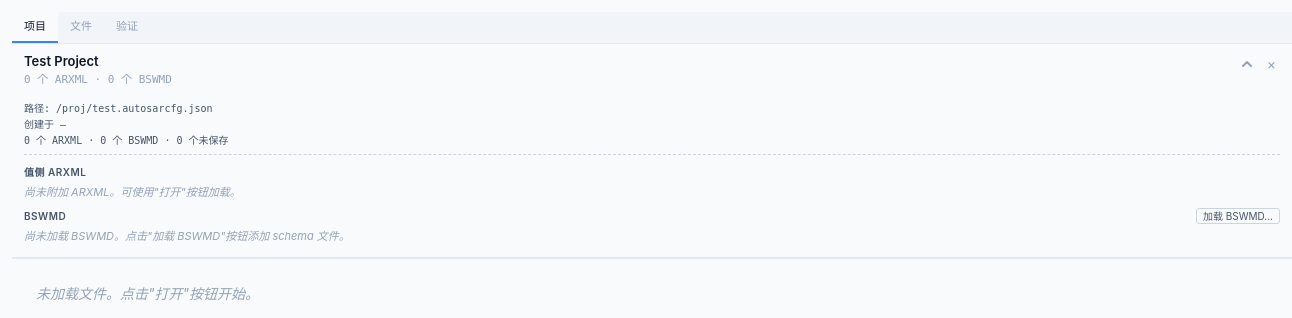
Test: LeftPanel — Project Tab Collapse/Expand (v1.55.0) › clicking the chevron in the header collapses the panel (body → placeholder)
The width and height of the screenshot is (1292, 318).
Click the button with test id "project-panel-collapse-toggle" at {"x": 1247, "y": 64}, box [1235, 52, 1259, 76]
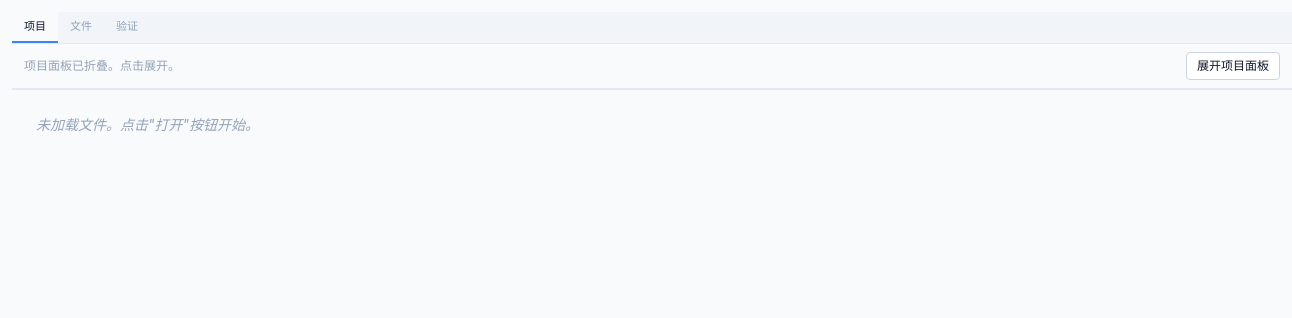
Expected: the element with test id "project-panel-open" is gone
Expected: the element with test id "left-pane-project-collapsed" is shown, [12, 44, 1291, 88]
